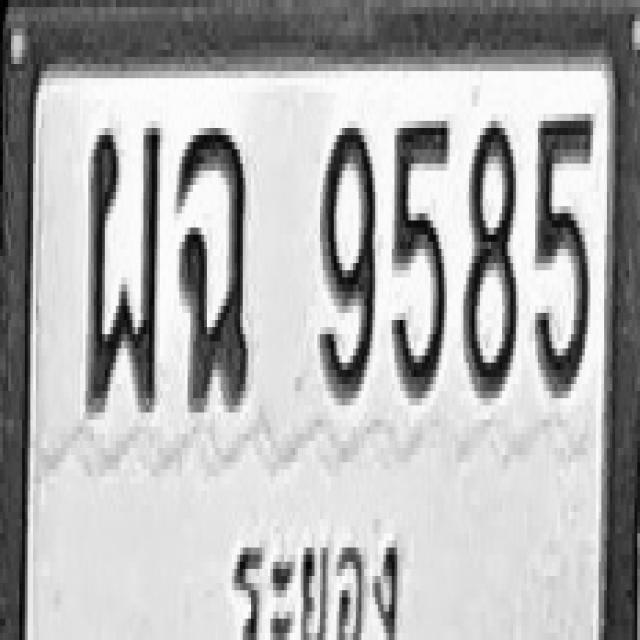18ChorChing: (175, 121, 250, 405)
37PhorPhueng: (86, 121, 160, 412)
5: (534, 110, 592, 395), (392, 114, 449, 398)
8: (463, 114, 516, 398)
9: (318, 121, 374, 398)
Rayong: (226, 519, 410, 640)
